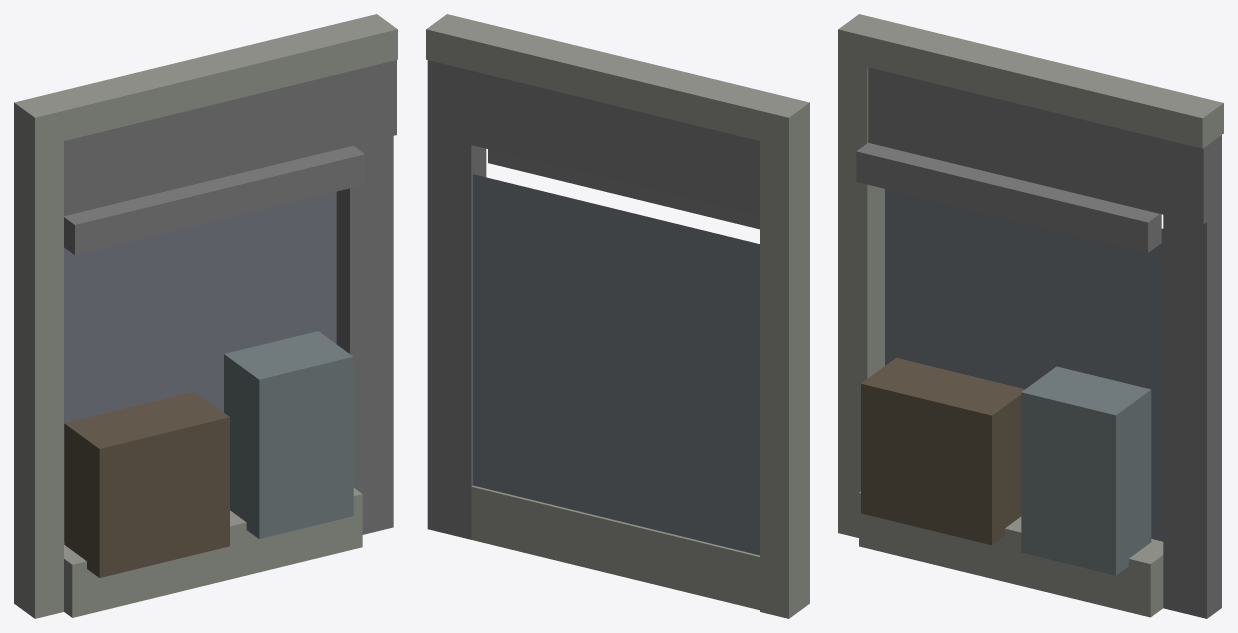
3 views of the same model, side by side, from view 1: azimuth 30°, elevation 25°; view 2: azimuth 150°, elevation 25°; view 3: azimuth 330°, elevation 25° (orthographic).
Parts seen in each view (by area): view 1: a2020/0/base-w1; view 2: a2020/0/base-w1; view 3: a2020/0/base-w1.
Part boxes in pixels (<box>): a2020/0/base-w1: <box>14,14,397,618</box>; a2020/0/base-w1: <box>426,14,809,618</box>; a2020/0/base-w1: <box>838,14,1223,618</box>.
Size of the model in its own units: 2.5 by 3.3 by 0.5.
